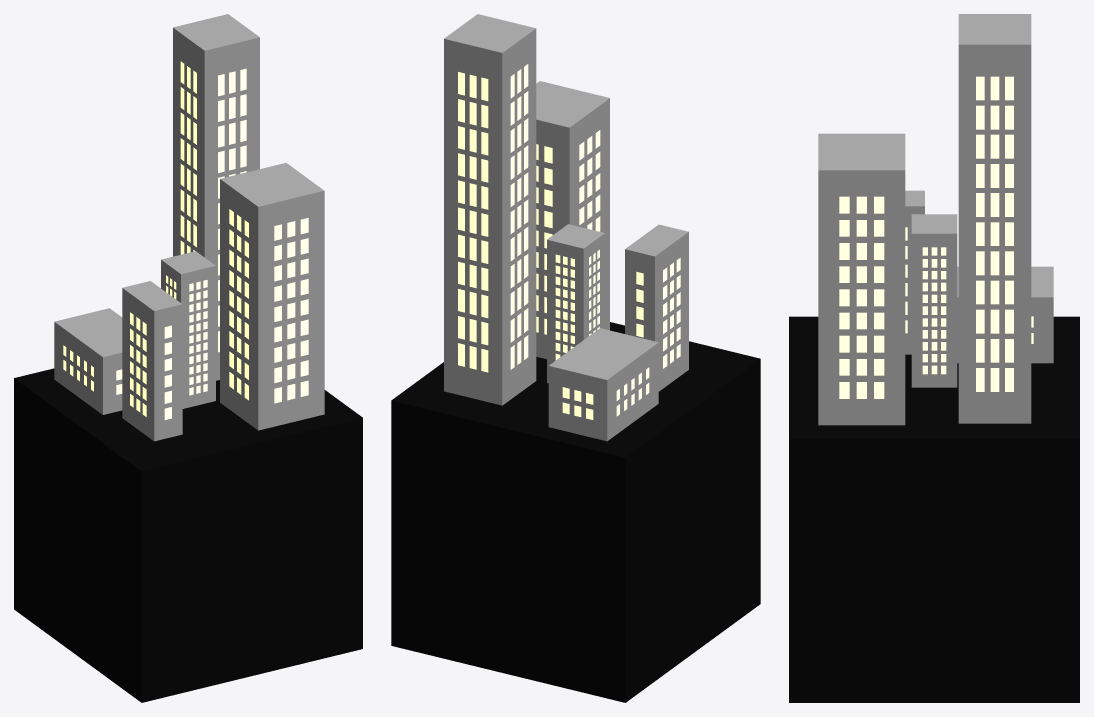
The model's file is City.fbx.
The picture shows the model from 3 angles, left to right: view 1: azimuth 30°, elevation 25°; view 2: azimuth 150°, elevation 25°; view 3: azimuth 270°, elevation 25°; orthographic projection. The views are drawn at different scales.
Parts seen in each view (by area): view 1: Combined Base, Merged City; view 2: Combined Base, Merged City; view 3: Combined Base, Merged City.
Part boxes in pixels (bbox=[...]): Combined Base: bbox=[14, 368, 362, 702]; Merged City: bbox=[54, 14, 324, 441]; Combined Base: bbox=[391, 322, 760, 702]; Merged City: bbox=[444, 14, 688, 441]; Combined Base: bbox=[789, 316, 1079, 702]; Merged City: bbox=[818, 14, 1053, 425].
Bounding box in the file's own units: 20 × 48.76 × 20.
